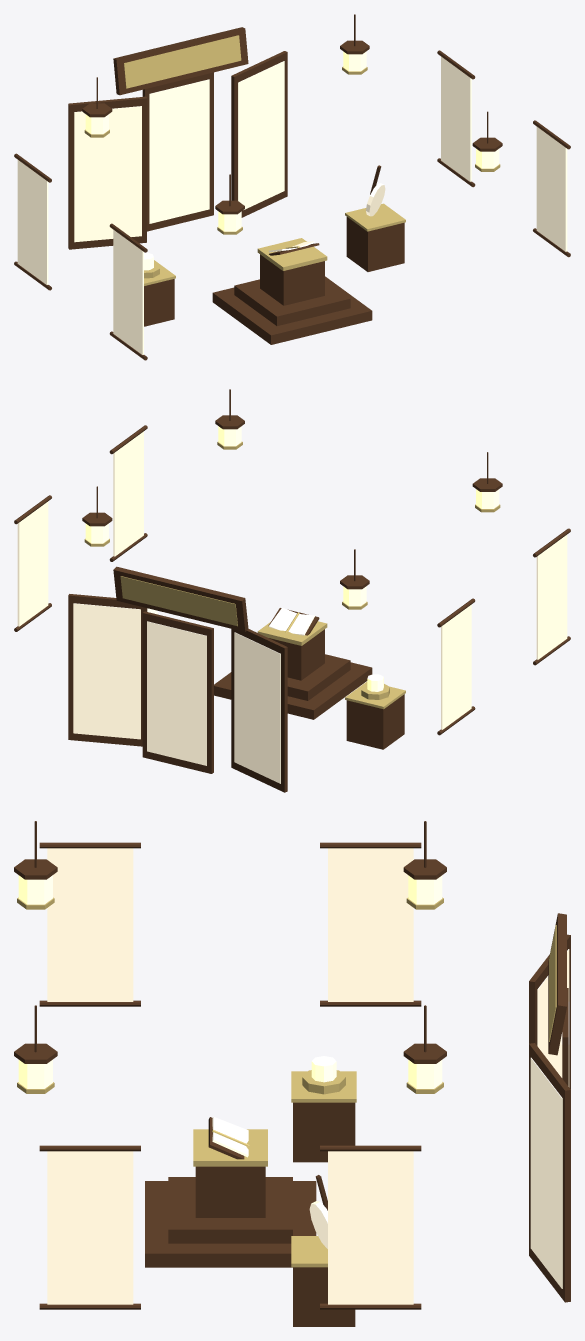
The model's file is truyen_kieu_room.glb.
3 renders of one model, top to bottom at view 1: azimuth 30°, elevation 25°; view 2: azimuth 150°, elevation 25°; view 3: azimuth 270°, elevation 25°, orthographic. The views are drawn at different scales.
Parts seen in each view (by area): view 1: TK_Room_Silk_Merged, TK_Room_Wood_Merged, TK_Room_Gold_Merged, TK_Room_Glow_Merged; view 2: TK_Room_Silk_Merged, TK_Room_Wood_Merged, TK_Room_Gold_Merged, TK_Room_Glow_Merged; view 3: TK_Room_Silk_Merged, TK_Room_Wood_Merged, TK_Room_Gold_Merged, TK_Room_Glow_Merged.
Boxes of the visible parts, x1,y1,x2,y2 form: TK_Room_Silk_Merged: (17, 56, 567, 354); TK_Room_Wood_Merged: (14, 14, 570, 360); TK_Room_Gold_Merged: (84, 35, 500, 285); TK_Room_Glow_Merged: (85, 51, 499, 270); TK_Room_Silk_Merged: (17, 431, 567, 783); TK_Room_Wood_Merged: (14, 389, 570, 792); TK_Room_Gold_Merged: (84, 441, 500, 709); TK_Room_Glow_Merged: (85, 426, 499, 691); TK_Room_Silk_Merged: (47, 848, 569, 1304); TK_Room_Wood_Merged: (14, 821, 570, 1326); TK_Room_Gold_Merged: (17, 897, 556, 1267); TK_Room_Glow_Merged: (18, 875, 442, 1088).
Bounding box in the file's own units: 9.28 × 4.5 × 7.15.
